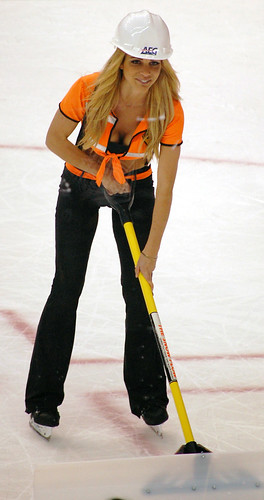person hardhat: (21, 11, 207, 456)
